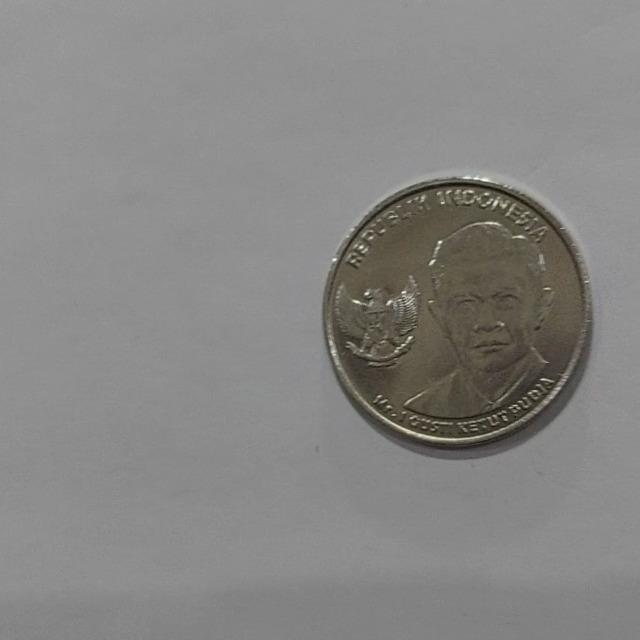Rp100: (322, 174, 593, 450), (398, 217, 557, 421)
